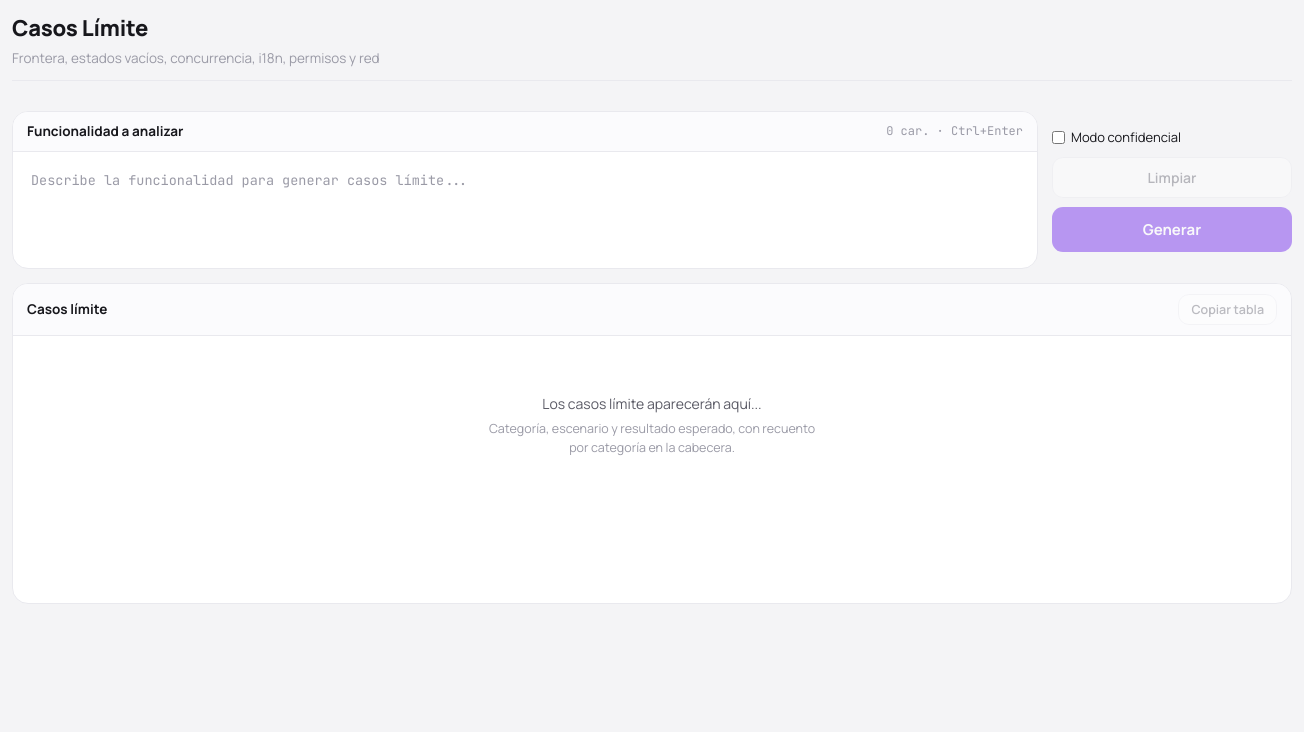
Test case: EdgeCaseTool › agrupa el recuento por categoria en la cabecera
Type "checkout con tarjeta" into the text box with placeholder "Describe la funcionalidad para generar casos límite..." at coordinates (525, 210), box [17,156,1033,264]
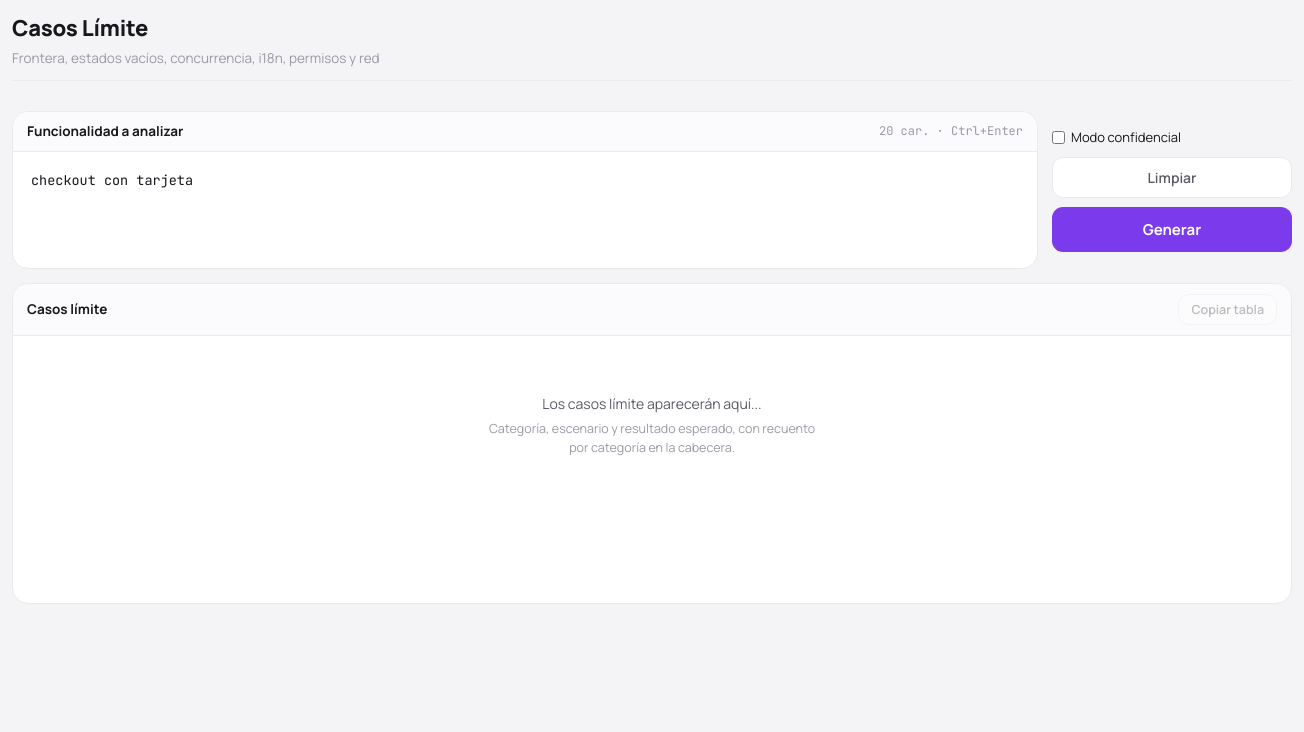
Click the button "Generar" at coordinates (1172, 229), box [1052,207,1292,252]
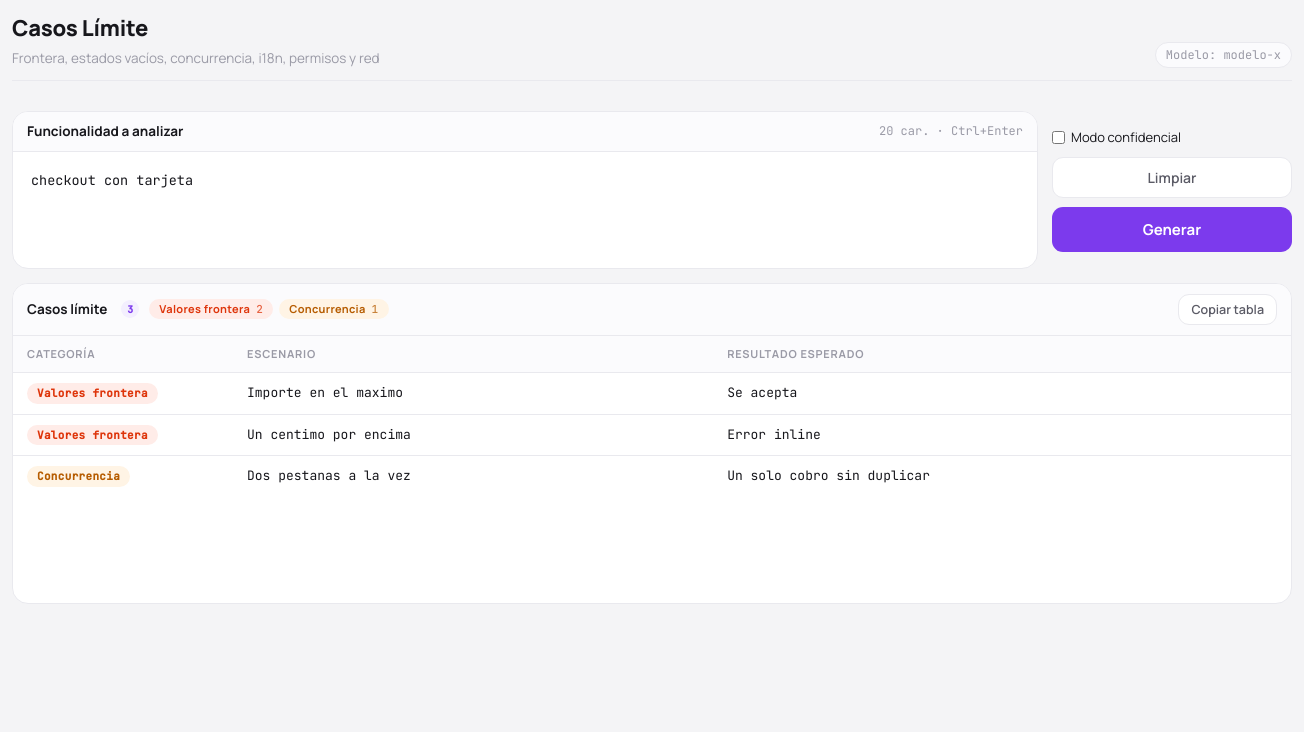
Expected: the text "Valores frontera" is shown 3 times, [149,299,273,319]; [27,383,158,404]; [27,424,158,445]
Expected: the number of elements with class "ec-cat" is 2, [149,299,273,319]; [279,299,388,319]
Expected: the element with class "ec-cat" reads "Valores frontera 2", [149,299,273,319]
